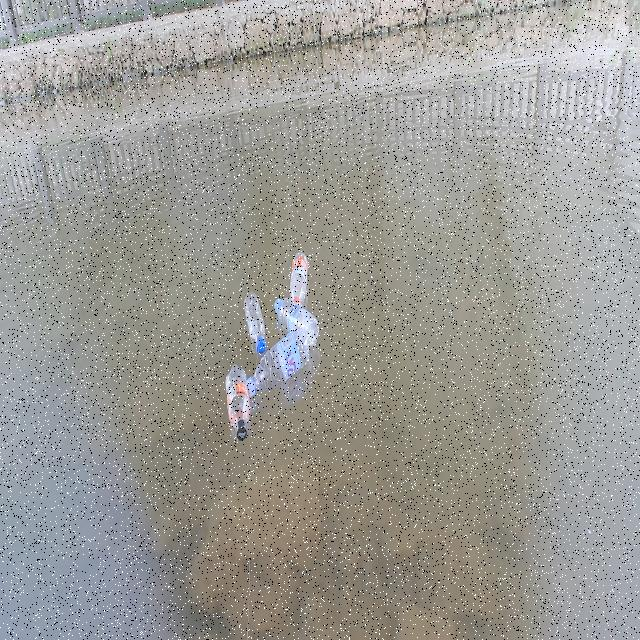Bottle: (247, 327, 311, 394), (273, 296, 320, 342), (224, 358, 250, 441), (242, 284, 266, 354), (288, 245, 310, 305)
